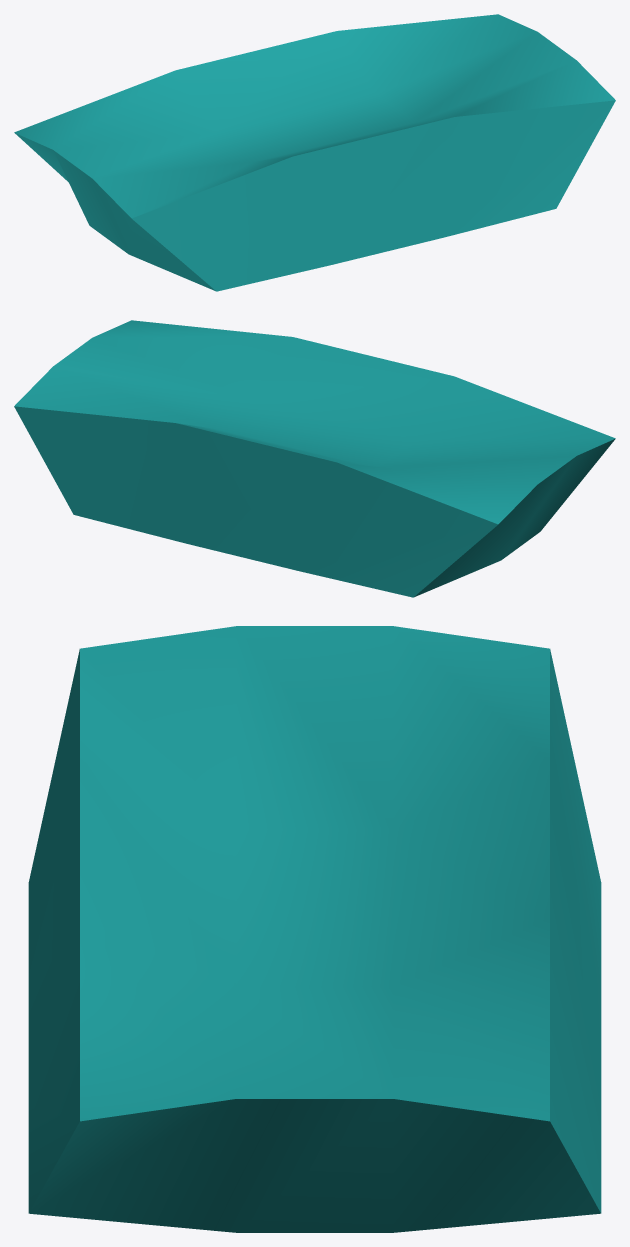
File: DreamWaves.fbx
3 renders of one model, top to bottom at view 1: azimuth 30°, elevation 25°; view 2: azimuth 150°, elevation 25°; view 3: azimuth 270°, elevation 25°, orthographic. The views are drawn at different scales.
Visible parts, largest first — view 1: Waves; view 2: Waves; view 3: Waves.
Part boxes in pixels (left/top/right/bottom): Waves: left=14, top=14, right=615, bottom=291; Waves: left=14, top=320, right=615, bottom=597; Waves: left=28, top=626, right=601, bottom=1232.
Bounding box in the file's own units: 211 × 108 × 43.86.
